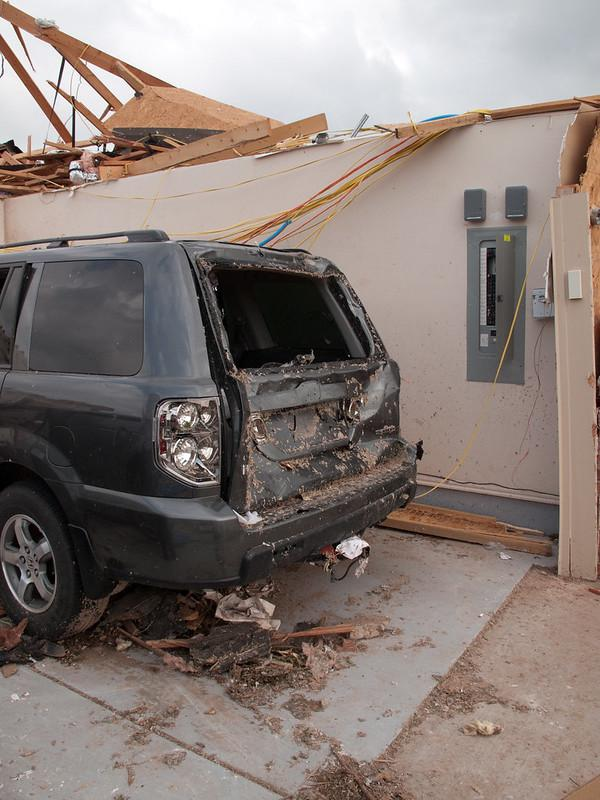Rear-windscreen-Damage: (206, 253, 388, 393)
boot-dent: (233, 408, 395, 508)
